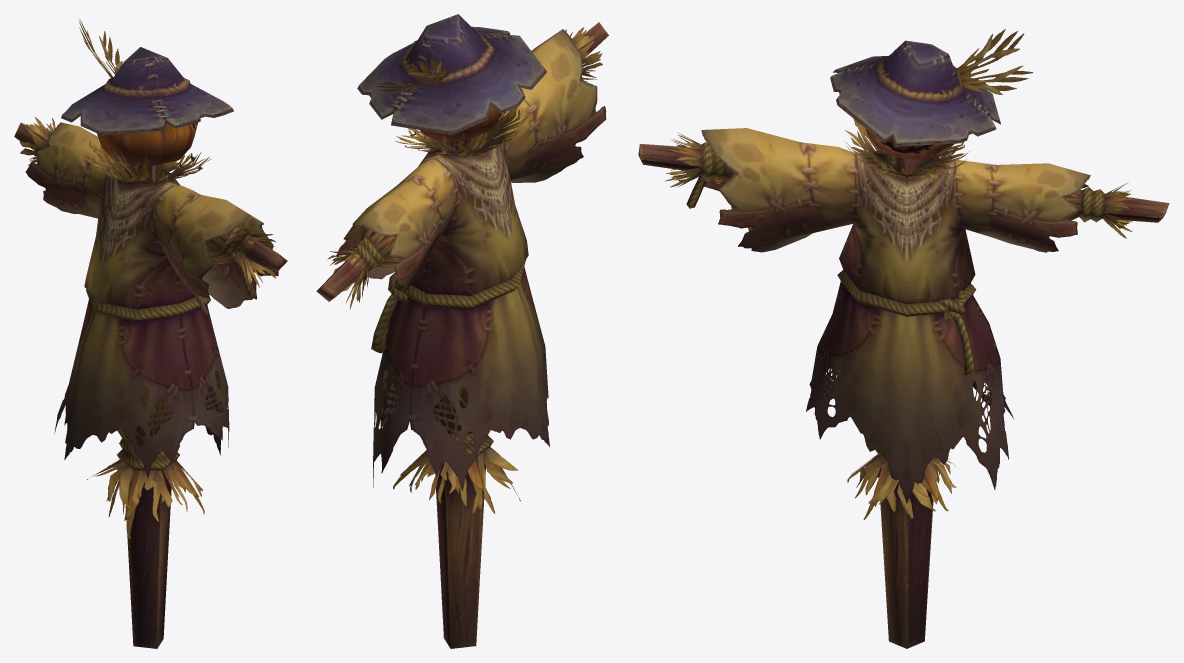
3 renders of one model, left to right at view 1: azimuth 30°, elevation 25°; view 2: azimuth 150°, elevation 25°; view 3: azimuth 270°, elevation 25°, orthographic. The views are drawn at different scales.
Size of the model in its own units: 1.29 by 4.51 by 3.54.
Materials: 2 (2 with a texture image).
